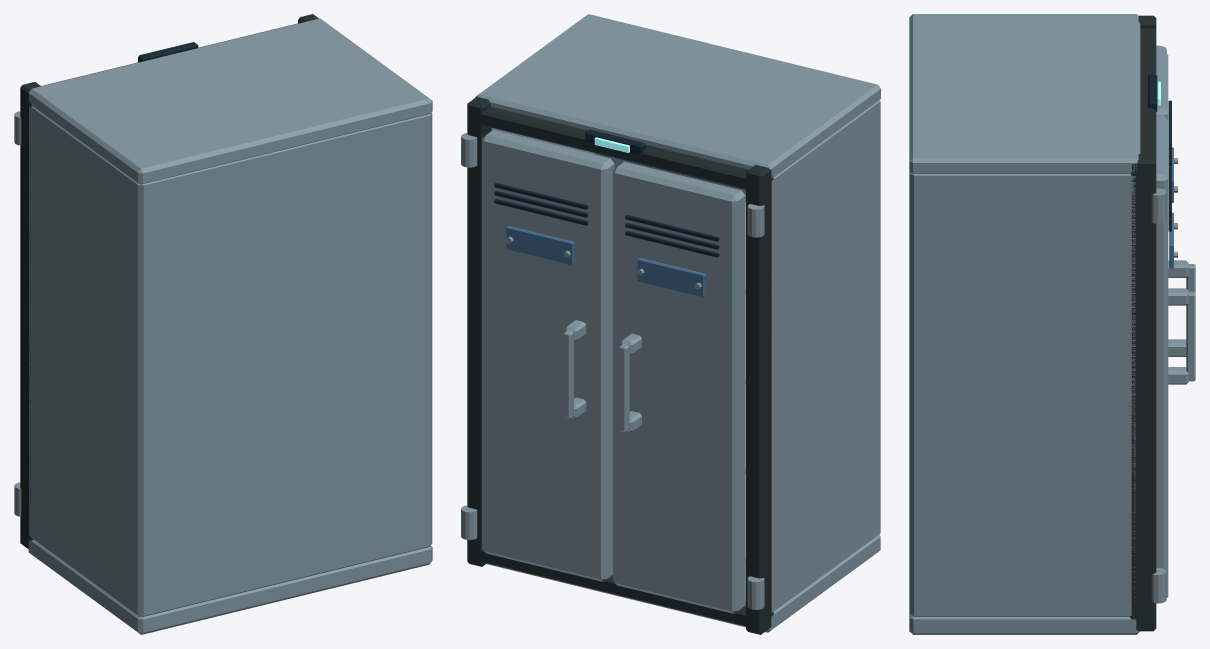
Rendered from restaurant_tall_fridge.glb.
3 renders of one model, left to right at view 1: azimuth 30°, elevation 25°; view 2: azimuth 150°, elevation 25°; view 3: azimuth 270°, elevation 25°, orthographic. The views are drawn at different scales.
Parts seen in each view (by area): view 1: body_back_wall, body_side_wall (×2), body_roof, body_floor, front_side_frame; view 2: moving_left_door, moving_right_door, body_side_wall, body_roof, front_side_frame (×2), front_cross_frame (×2), body_floor, moving_left_cold_id_plate, moving_right_cold_id_plate, moving_right_handle_grip, moving_left_handle_grip, body_back_wall (+1 smaller); view 3: body_side_wall, body_roof, front_side_frame, moving_right_door, body_floor, body_back_wall, front_cross_frame, hinge_pin (×2), moving_right_handle_grip, moving_left_door.
Part boxes in pixels (<box>): body_back_wall: <box>130,114,430,616</box>; body_side_wall (×2): <box>29,105,432,616</box>; body_roof: <box>28,18,432,184</box>; body_floor: <box>28,539,432,634</box>; front_side_frame: <box>20,82,40,548</box>; moving_left_door: <box>613,162,745,613</box>; moving_right_door: <box>482,130,614,581</box>; body_side_wall: <box>771,100,880,612</box>; body_roof: <box>475,14,880,178</box>; front_side_frame (×2): <box>467,96,773,634</box>; front_cross_frame (×2): <box>467,107,773,628</box>; body_floor: <box>486,534,880,632</box>; moving_left_cold_id_plate: <box>637,258,705,297</box>; moving_right_cold_id_plate: <box>506,226,574,265</box>; moving_right_handle_grip: <box>563,330,573,418</box>; moving_left_handle_grip: <box>619,343,629,432</box>; body_back_wall: <box>595,101,880,532</box>; body_side_wall: <box>909,172,1135,616</box>; body_roof: <box>909,14,1140,173</box>; front_side_frame: <box>1130,154,1156,631</box>; moving_right_door: <box>1156,116,1168,597</box>; body_floor: <box>909,614,1139,634</box>; body_back_wall: <box>914,174,927,616</box>; front_cross_frame: <box>1131,28,1156,179</box>; hinge_pin (×2): <box>1151,188,1166,603</box>; moving_right_handle_grip: <box>1186,291,1195,381</box>; moving_left_door: <box>1156,51,1168,119</box>.
Size of the model in its own units: 1.3 by 1.99 by 1.05.
